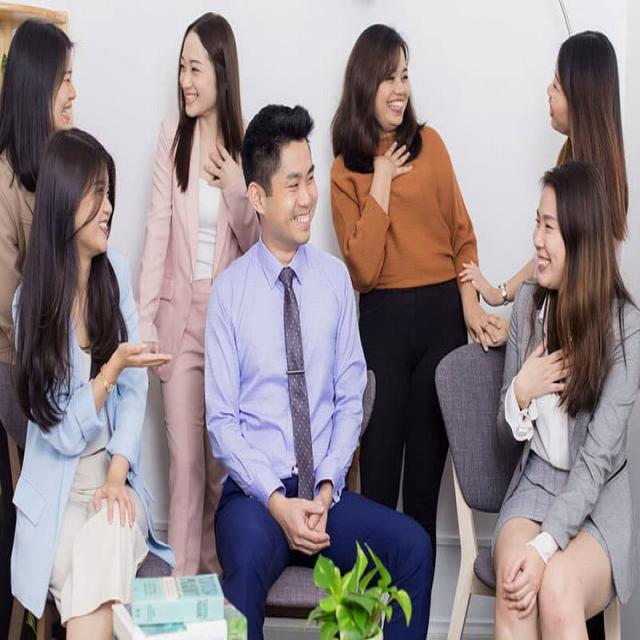adult: (202, 102, 431, 640), (330, 22, 500, 640), (11, 126, 175, 640), (487, 158, 640, 640), (138, 12, 261, 594), (464, 30, 622, 332), (0, 19, 77, 514)
